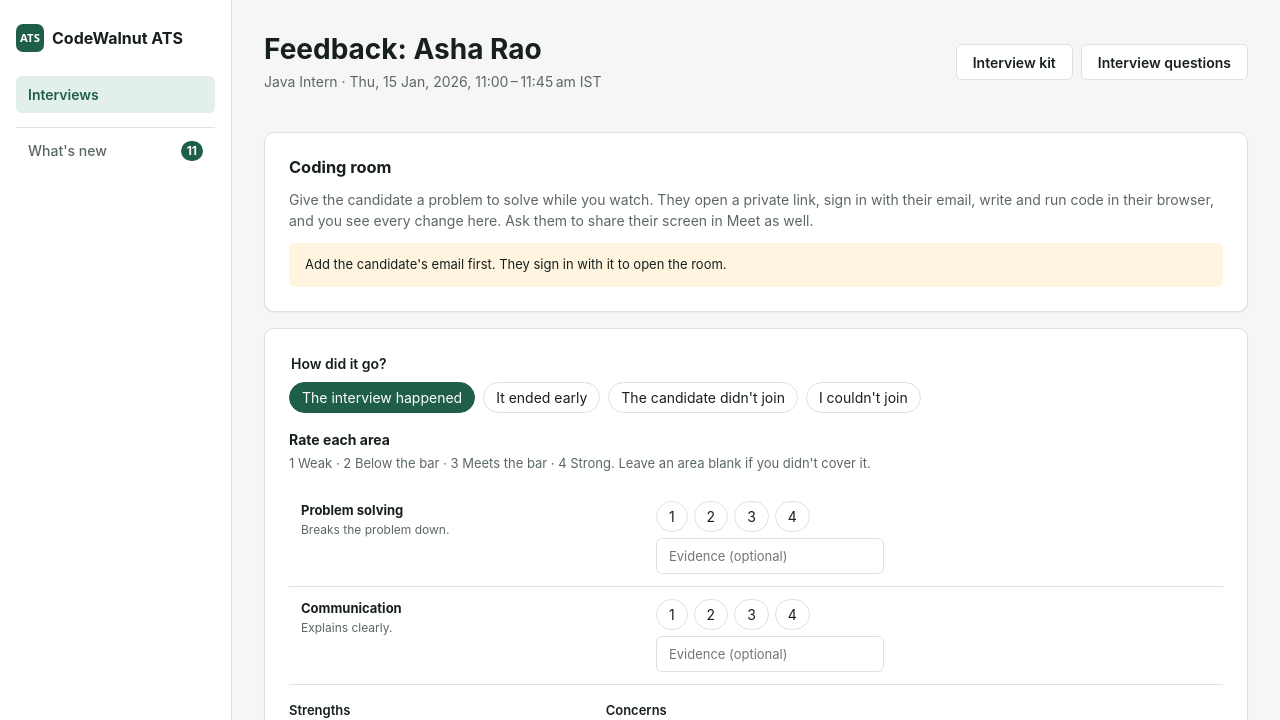
InterviewFeedbackPage (INT-24…INT-26) › hides the panel until you submit, then sends ratings and a recommendation
Expected: the heading "Feedback: Asha Rao" is shown, left=264, top=32, right=542, bottom=66
Expected: the text "Clear explanations" is not shown
// A recommendation is required when the interview happened.
Click the button named "Problem solving: 3 Meets the bar". click: (752, 517)
box: left=734, top=502, right=769, bottom=532
(page scrolled)
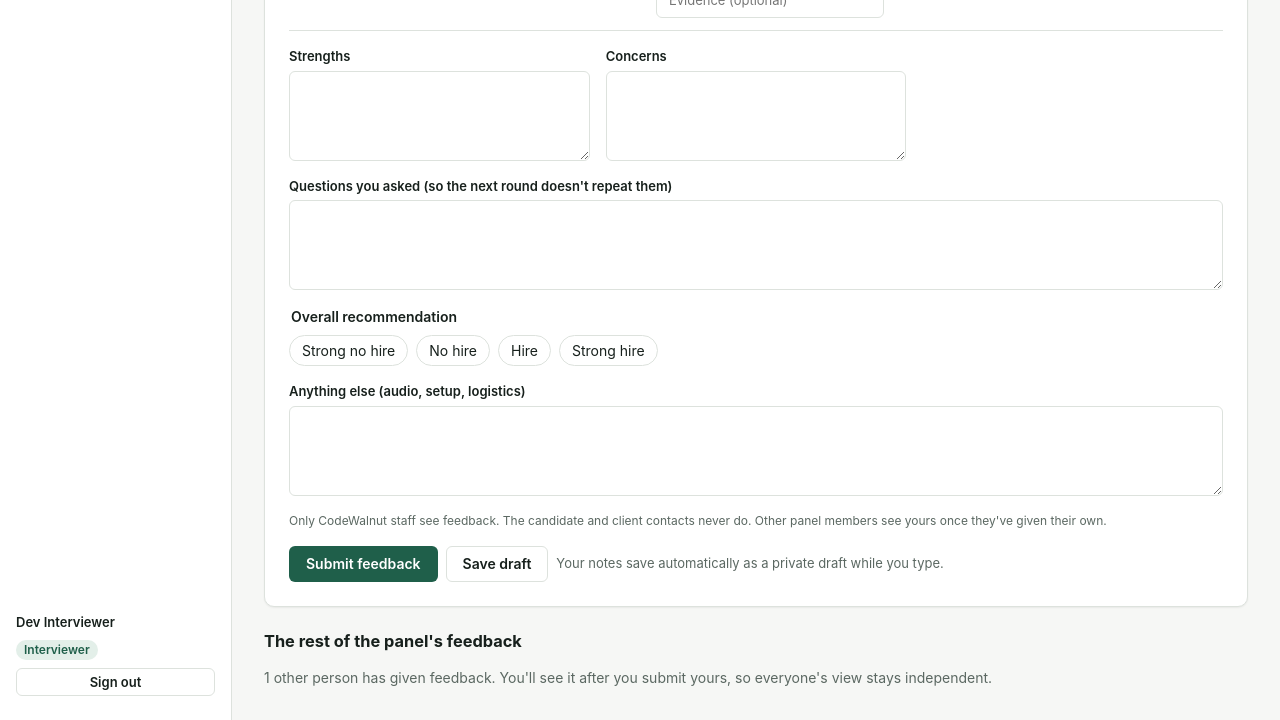
Click the button "Submit feedback". click: (363, 564)
box: left=289, top=546, right=438, bottom=582
(page scrolled)
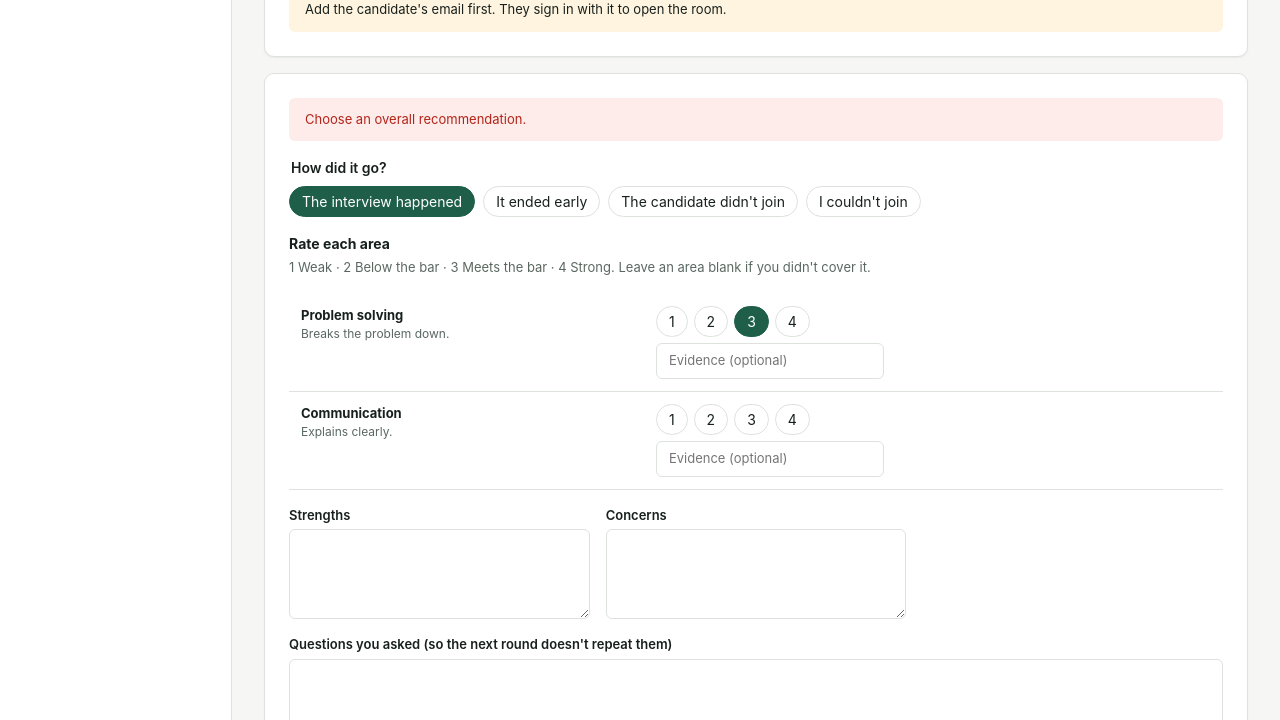
Expected: the message shows "Choose an overall recommendation", left=305, top=111, right=526, bottom=127
Type "Found the O(n) approach" into the field named "Problem solving note". click: (770, 361)
box: left=656, top=343, right=884, bottom=379
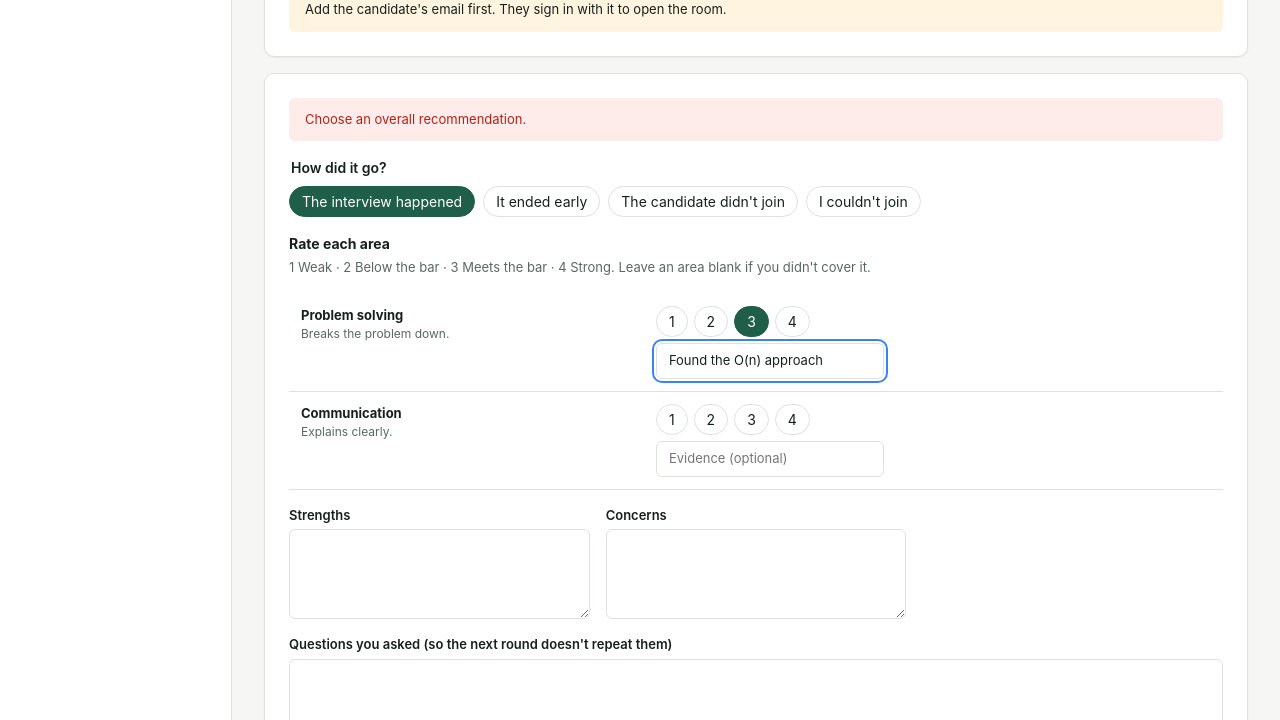
Type "Good with hash maps" into the text box labelled "Strengths". click: (439, 574)
box: left=289, top=530, right=590, bottom=620
(page scrolled)
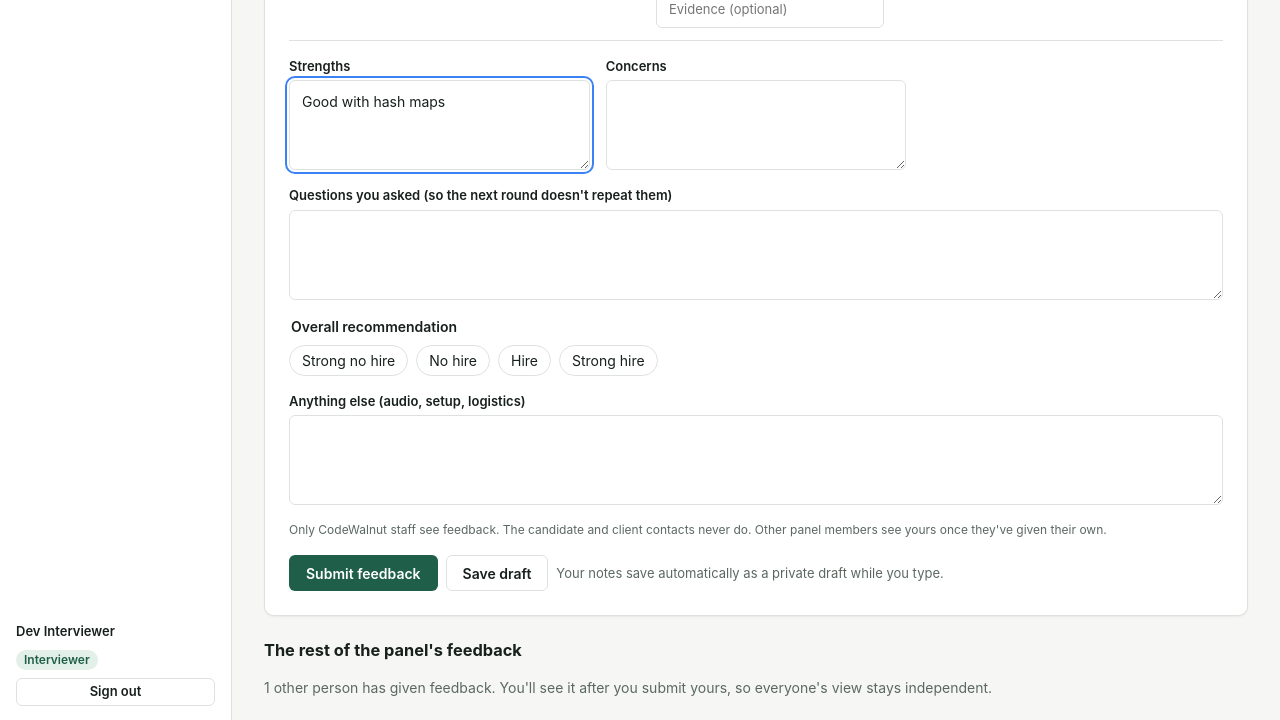
Click the button "Hire". click: (524, 360)
box: left=498, top=345, right=551, bottom=376
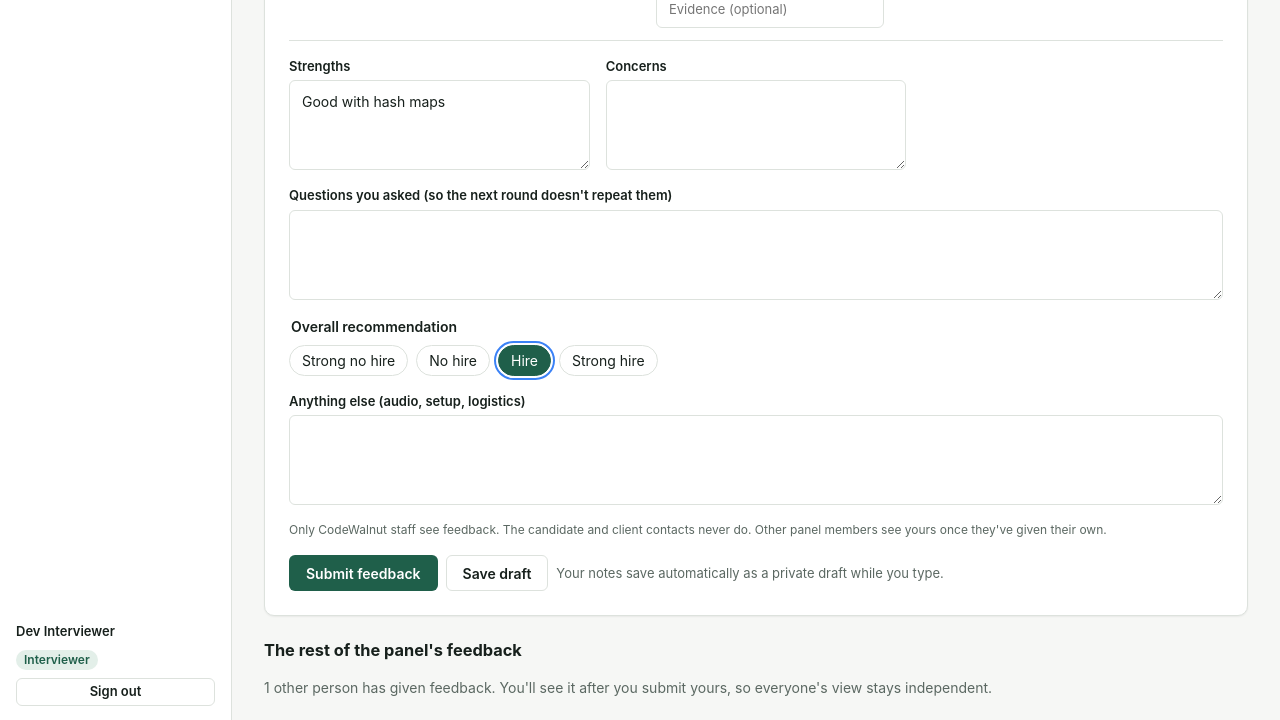
Click the button "Submit feedback". click: (363, 574)
box: left=289, top=556, right=438, bottom=592
(page scrolled)
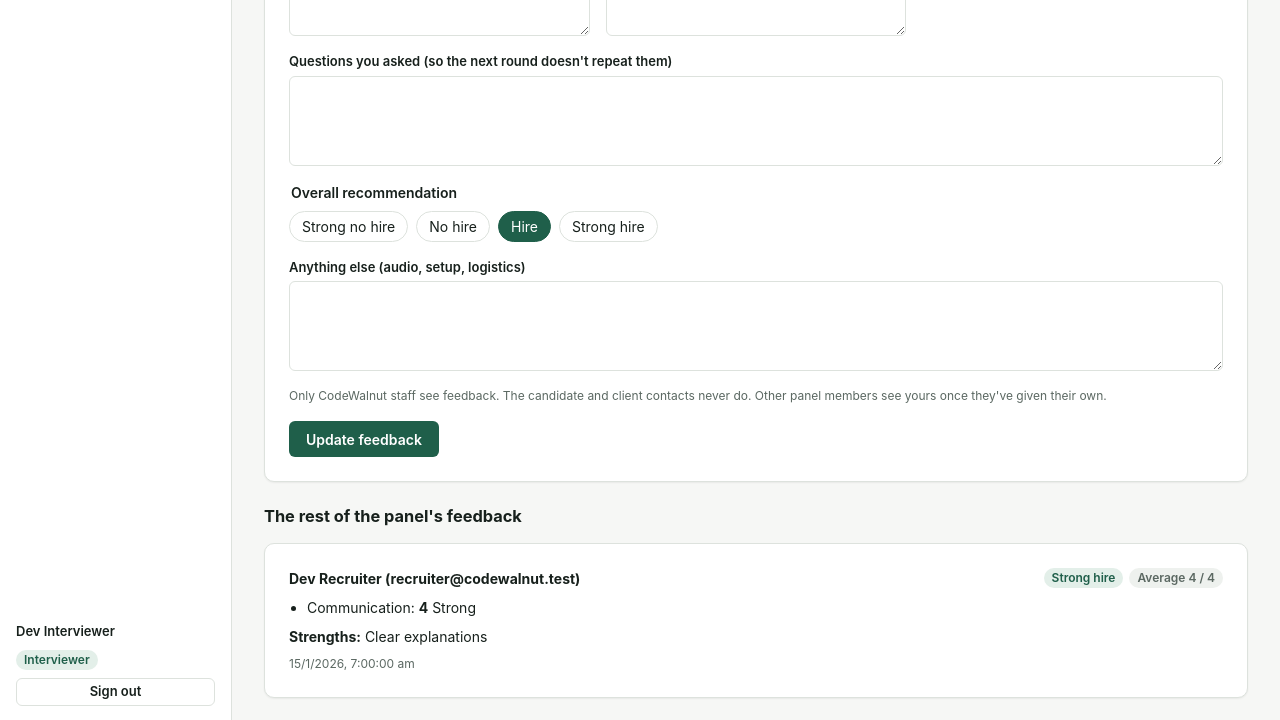
Expected: the text "Clear explanations" is shown, left=365, top=628, right=487, bottom=645
